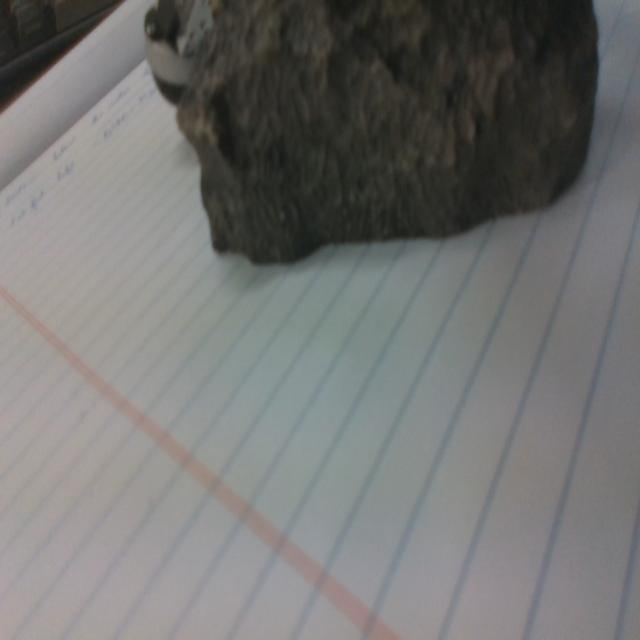stone: (176, 0, 597, 267)
